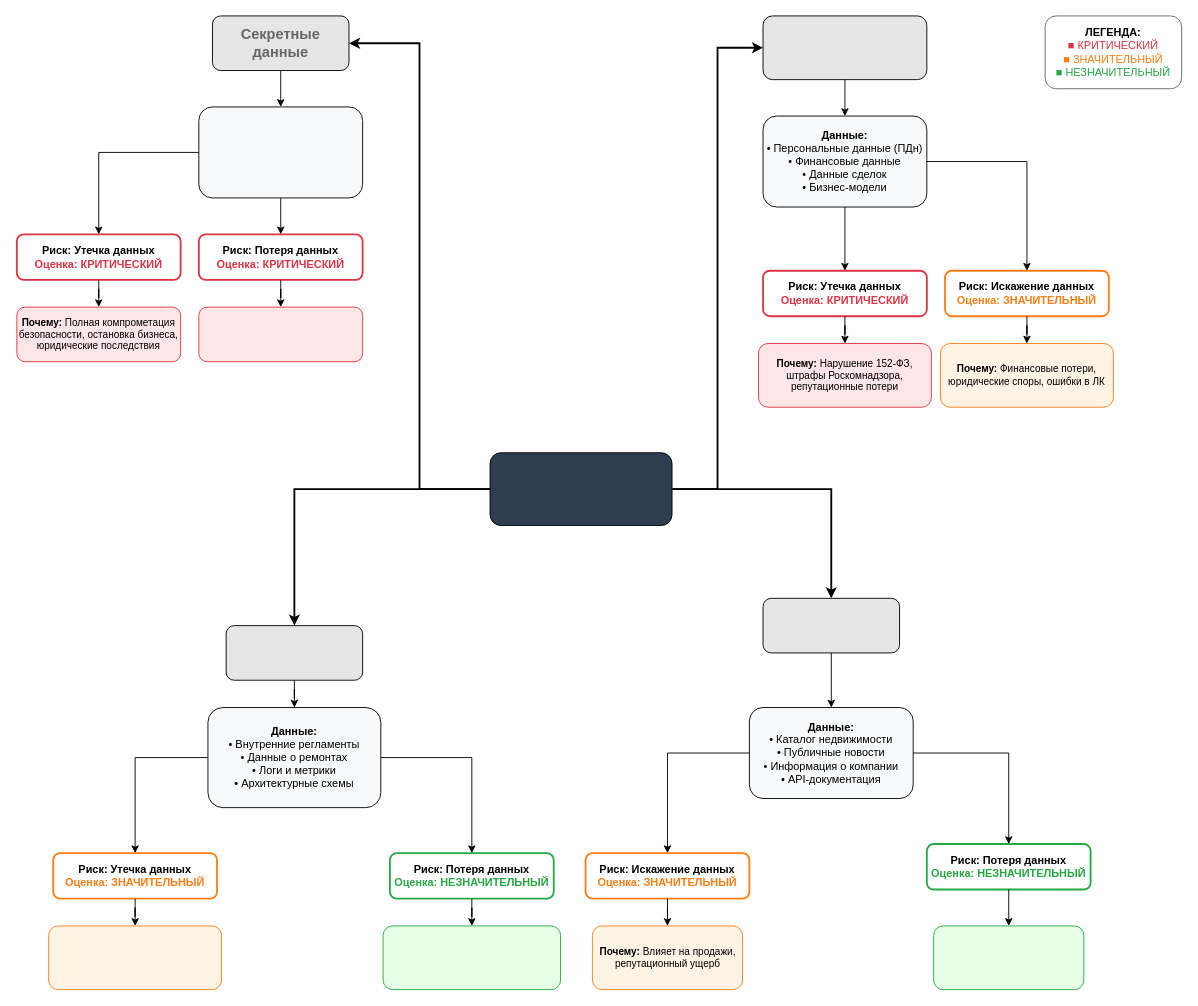
This 1198x1006 diagram has some shape labels left out. The box of each missing label's shape, as (x1, y1, x2, y2) in pixels:
Безопасность данных PropDevelopment: (489, 452, 672, 526)
Внутренние данные: (225, 625, 363, 680)
Данные: • Ключи шифрования • Исходный код ядра • Мастер-ключи БД • Сертификаты: (198, 106, 363, 198)
Конфиденциальные данные: (762, 15, 927, 80)
Почему: Временная проблема, легко восстанавливается: (933, 925, 1084, 990)
Почему: Данные можно восстановить, временные затраты: (382, 925, 561, 990)
Почему: Невозможность расшифровать данные, перманентная потеря: (198, 306, 363, 362)
Почему: Раскрытие информации для целенаправленных атак: (48, 925, 222, 990)
Публичные данные: (762, 597, 900, 653)
